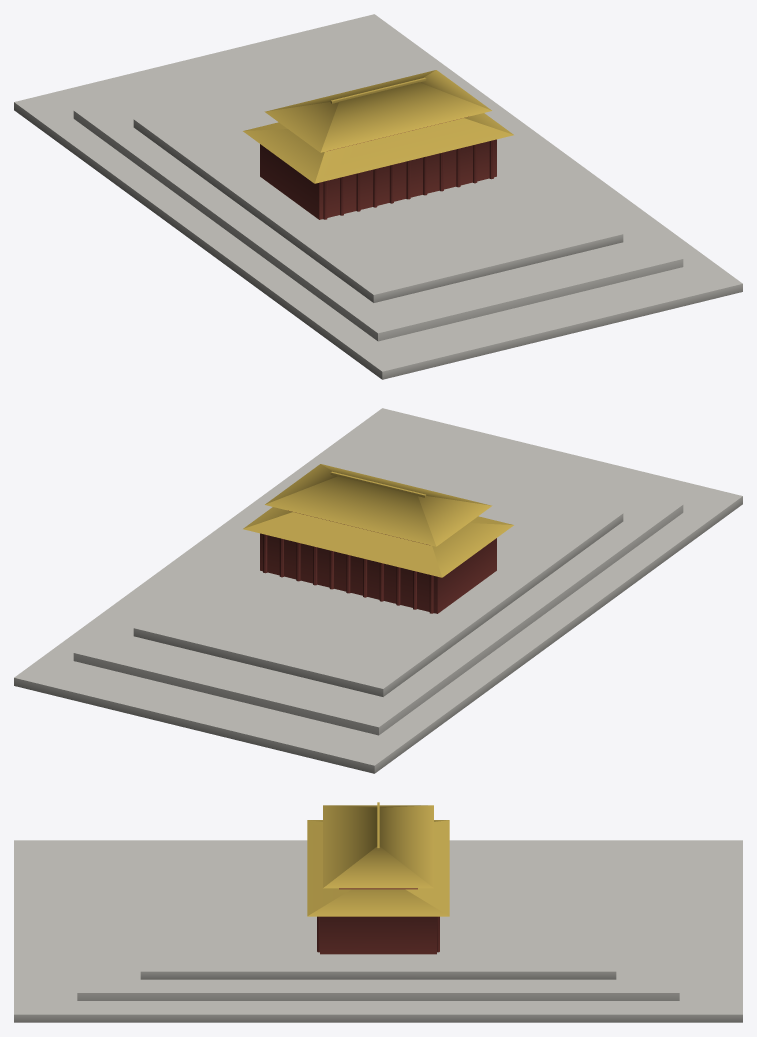
Rendered from verbotene.glb.
The picture shows the model from 3 angles, top to bottom: view 1: azimuth 30°, elevation 25°; view 2: azimuth 150°, elevation 25°; view 3: azimuth 270°, elevation 25°; orthographic projection.
Visible parts, largest first — view 1: lack; view 2: lack; view 3: lack.
Boxes of the visible parts, x1,y1,x2,y2 form: lack: (14,14,742,379); lack: (14,408,742,773); lack: (14,802,742,1022).
Size of the model in its own units: 130 by 38.4 by 230.
